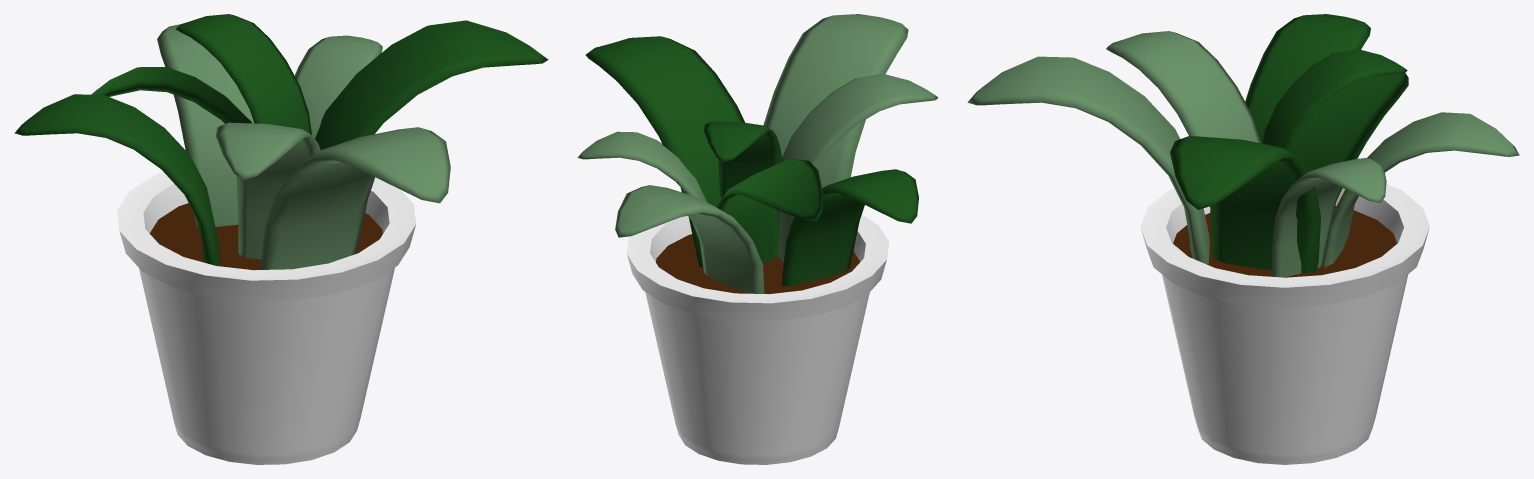
The model's file is planta.glb.
The picture shows the model from 3 angles, left to right: view 1: azimuth 30°, elevation 25°; view 2: azimuth 150°, elevation 25°; view 3: azimuth 270°, elevation 25°; orthographic projection. The views are drawn at different scales.
Visible parts, largest first — view 1: planta; view 2: planta; view 3: planta.
Part boxes in pixels (left/top/right/bottom): planta: left=14, top=14, right=548, bottom=464; planta: left=577, top=14, right=938, bottom=464; planta: left=967, top=14, right=1519, bottom=464.
Bounding box in the file's own units: 0.0992 × 0.0797 × 0.1095.
